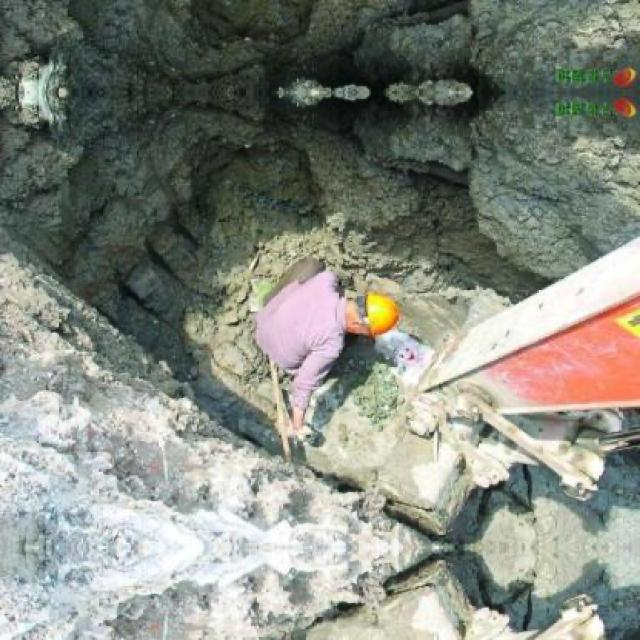con casco: (309, 265, 416, 363)
